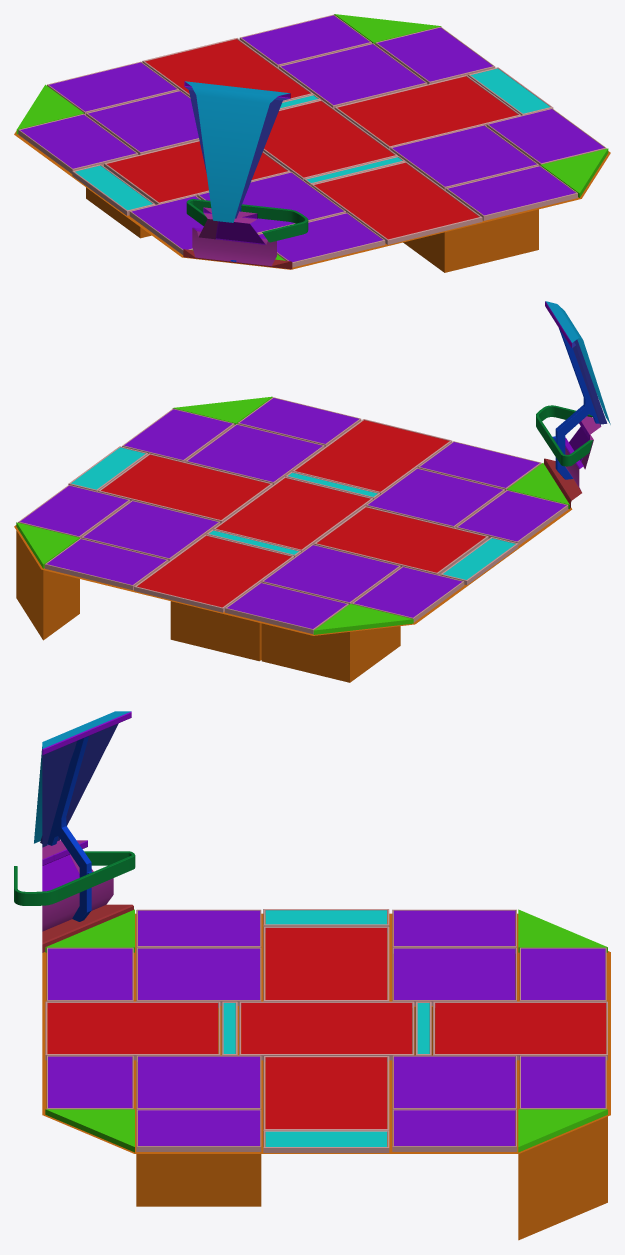
Rendered from corridor_01_cross.fbx.
3 renders of one model, top to bottom at view 1: azimuth 30°, elevation 25°; view 2: azimuth 150°, elevation 25°; view 3: azimuth 270°, elevation 25°, orthographic. The views are drawn at different scales.
Parts seen in each view (by area): view 1: Corridor01_Floor_Cross, Corridor01_Cross_Corner; view 2: Corridor01_Floor_Cross, Corridor01_Cross_Corner; view 3: Corridor01_Floor_Cross, Corridor01_Cross_Corner.
Part boxes in pixels (x1,y1,x2,y2): Corridor01_Floor_Cross: (14,14,610,272); Corridor01_Cross_Corner: (183,81,308,269); Corridor01_Floor_Cross: (14,396,572,682); Corridor01_Cross_Corner: (536,301,610,508); Corridor01_Floor_Cross: (42,909,610,1240); Corridor01_Cross_Corner: (14,711,135,952).
Size of the model in its own units: 809 by 459 by 840.
